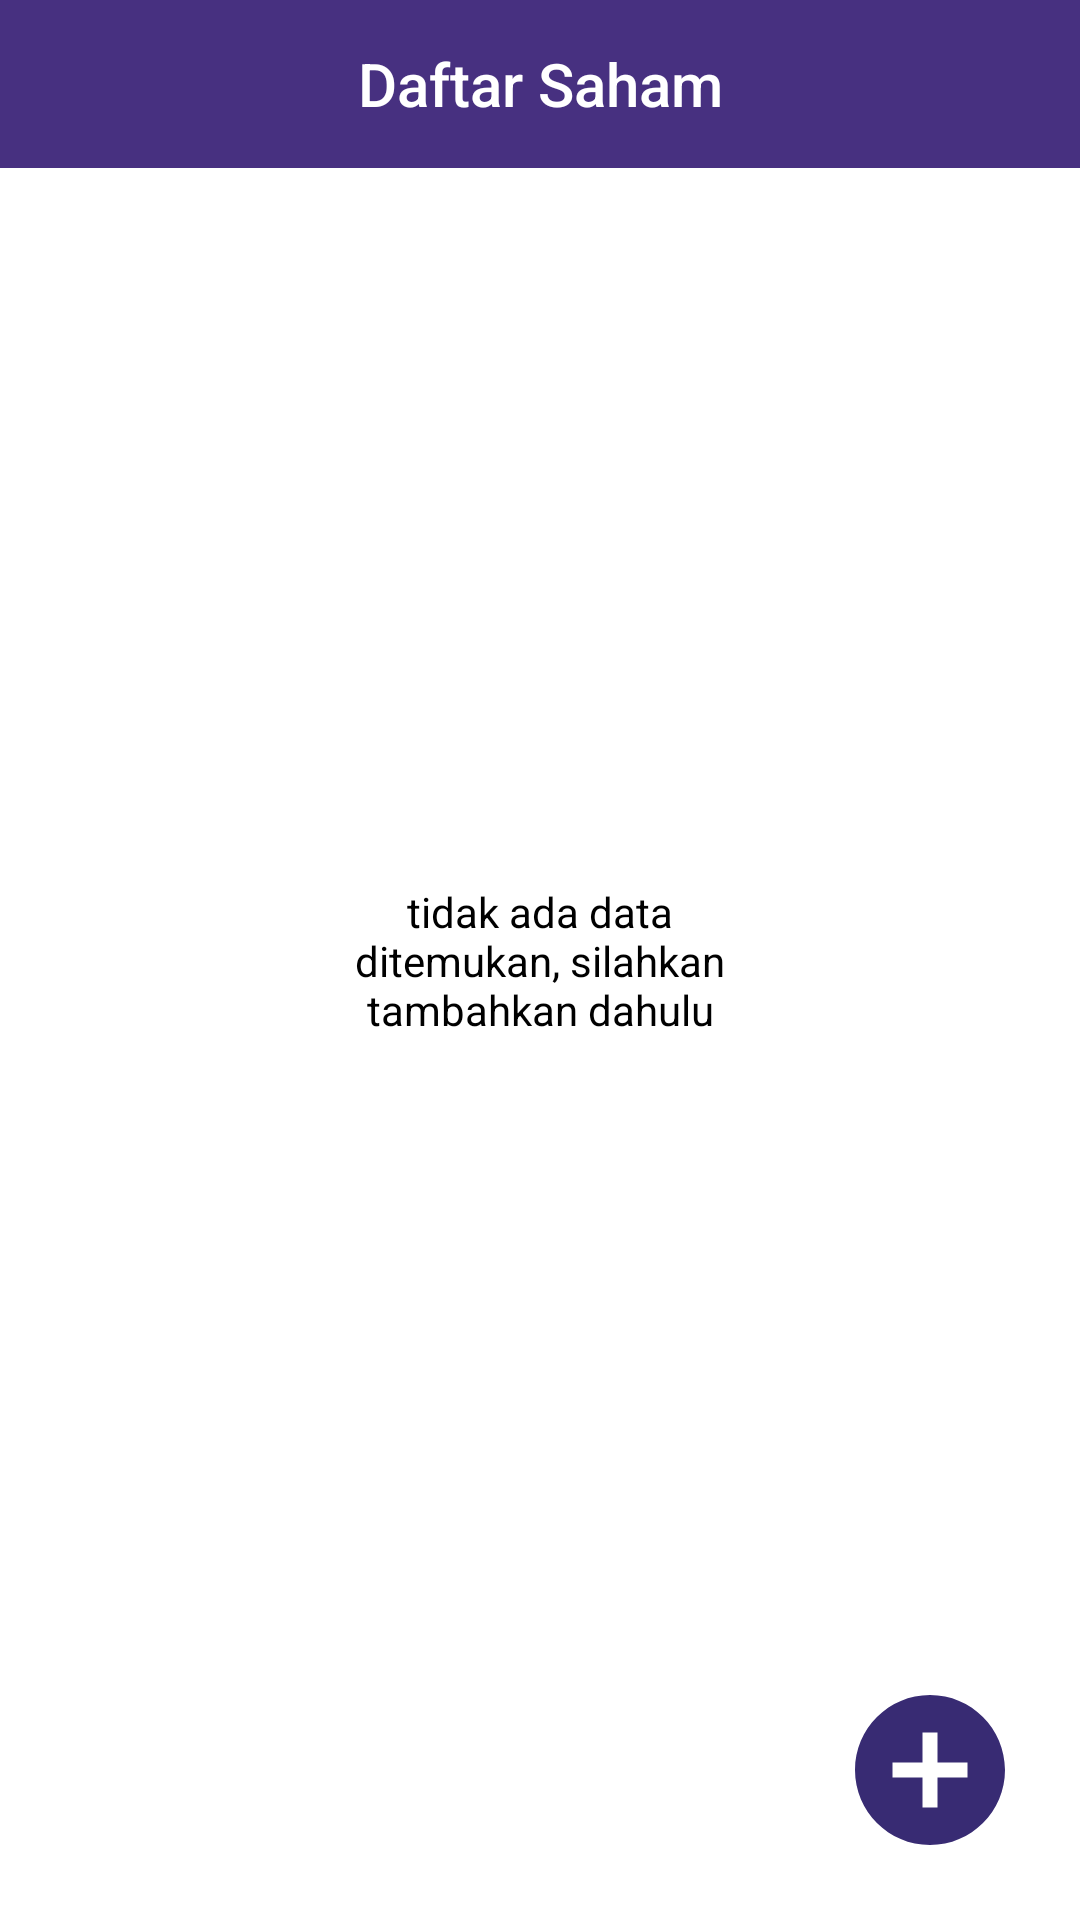

Where icons sit on this 1080 × 1920 app screen, as [x1,y1,x2,y2]:
add: [855,1695,1005,1845]
